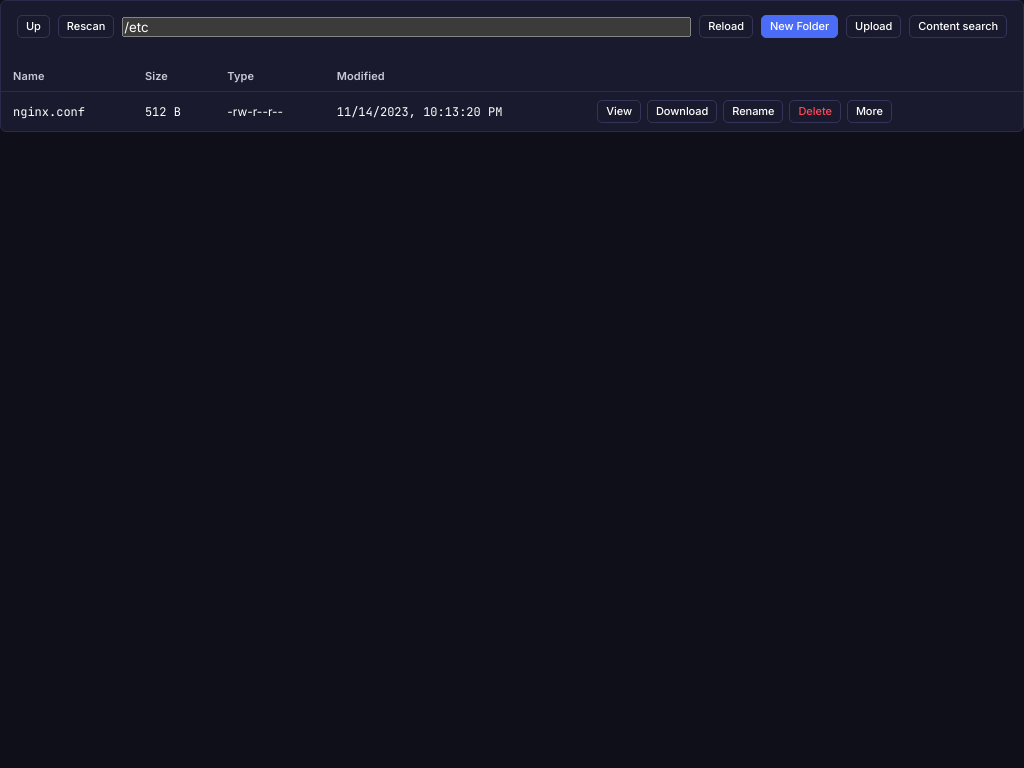
Test: FilesTab content search › renders the matching line with its line number
The image size is (1024, 768).
Expected: the text "nginx.conf" is shown, [1,92,133,131]
Click the button "Content search": (958, 27) [909,15,1007,38]
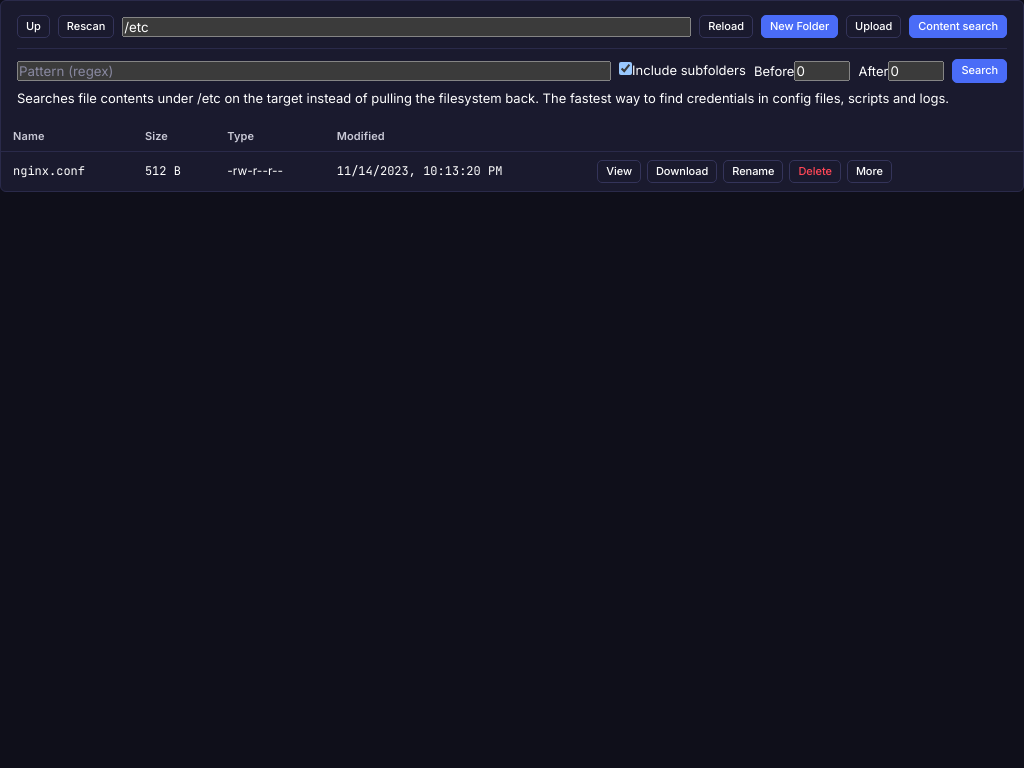
In the field with placeholder "Pattern (regex)": (314, 71) [17,61,611,81], type "proxy_pass"
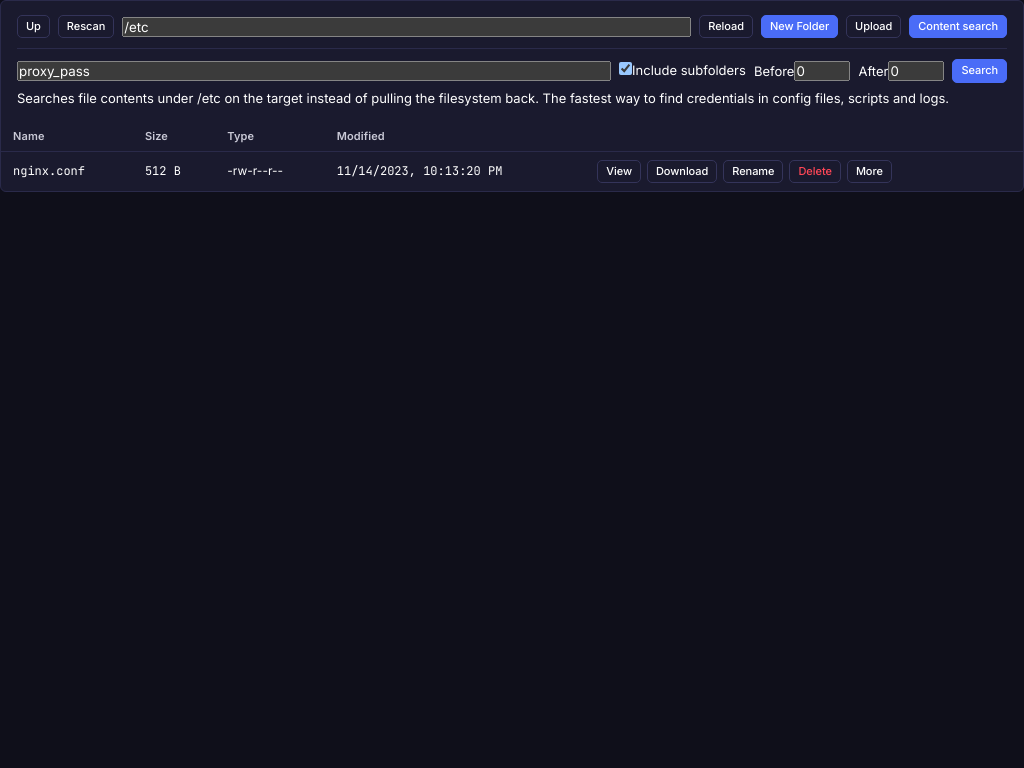
Click the button "Search": (980, 71) [952,59,1007,83]
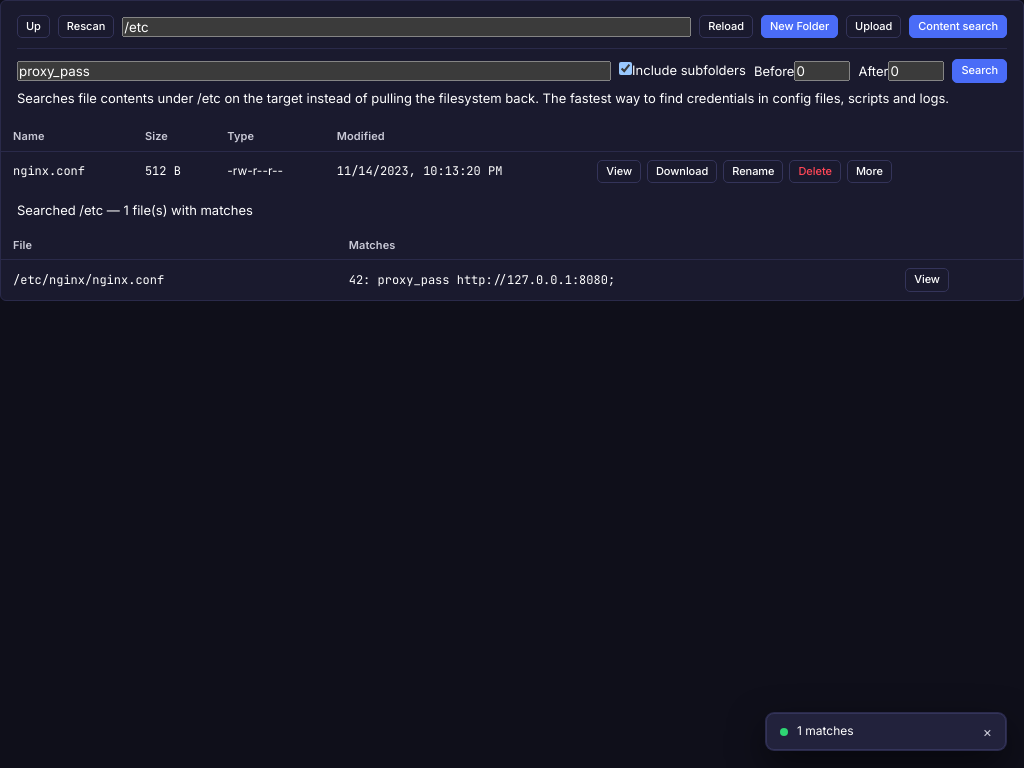
Now the text "/etc/nginx/nginx.conf" is shown, box [1,260,337,300]
Now the text "42:" is shown, box [349,272,370,288]
Now the text "proxy_pass http://127.0.0.1:8080;" is shown, box [378,272,615,288]
